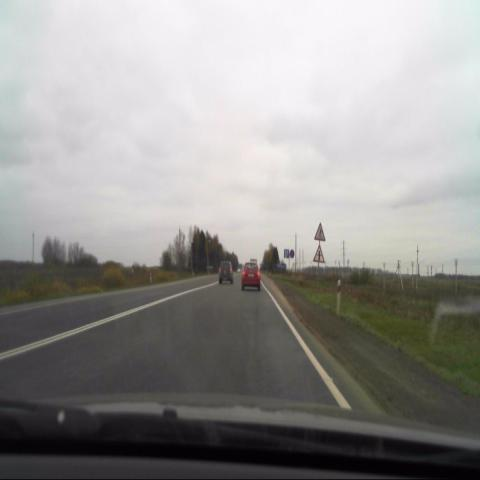2_3: (312, 243, 326, 265)
